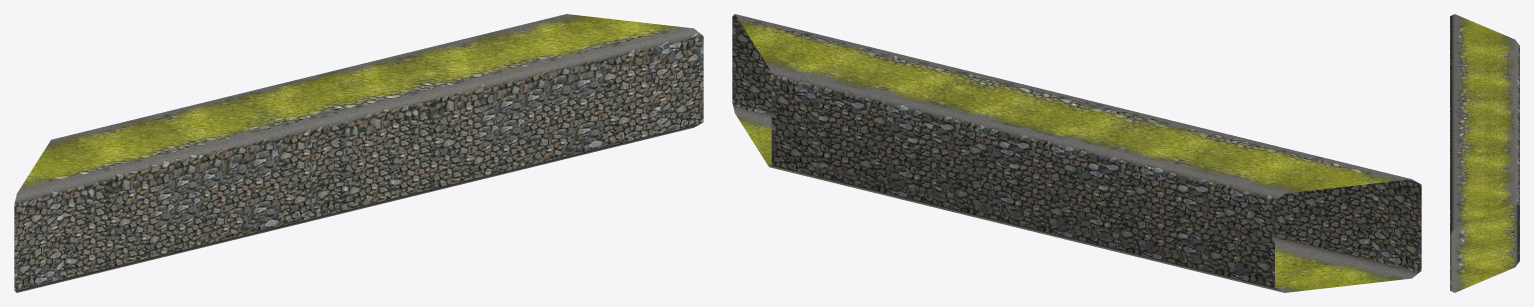
Rendered from Temple_Wall_Extend_Long_01.fbx.
3 renders of one model, left to right at view 1: azimuth 30°, elevation 25°; view 2: azimuth 150°, elevation 25°; view 3: azimuth 270°, elevation 25°, orthographic. The views are drawn at different scales.
Parts seen in each view (by area): view 1: Temple_Wall_Extend_Long_01_Wall_Extend_Long; view 2: Temple_Wall_Extend_Long_01_Wall_Extend_Long; view 3: Temple_Wall_Extend_Long_01_Wall_Extend_Long.
Part boxes in pixels (left/top/right/bottom): Temple_Wall_Extend_Long_01_Wall_Extend_Long: left=14, top=14, right=703, bottom=292; Temple_Wall_Extend_Long_01_Wall_Extend_Long: left=732, top=14, right=1421, bottom=292; Temple_Wall_Extend_Long_01_Wall_Extend_Long: left=1450, top=14, right=1519, bottom=292.
Size of the model in its own units: 8.89 by 1.22 by 1.2.
1 material, 1 textured.
